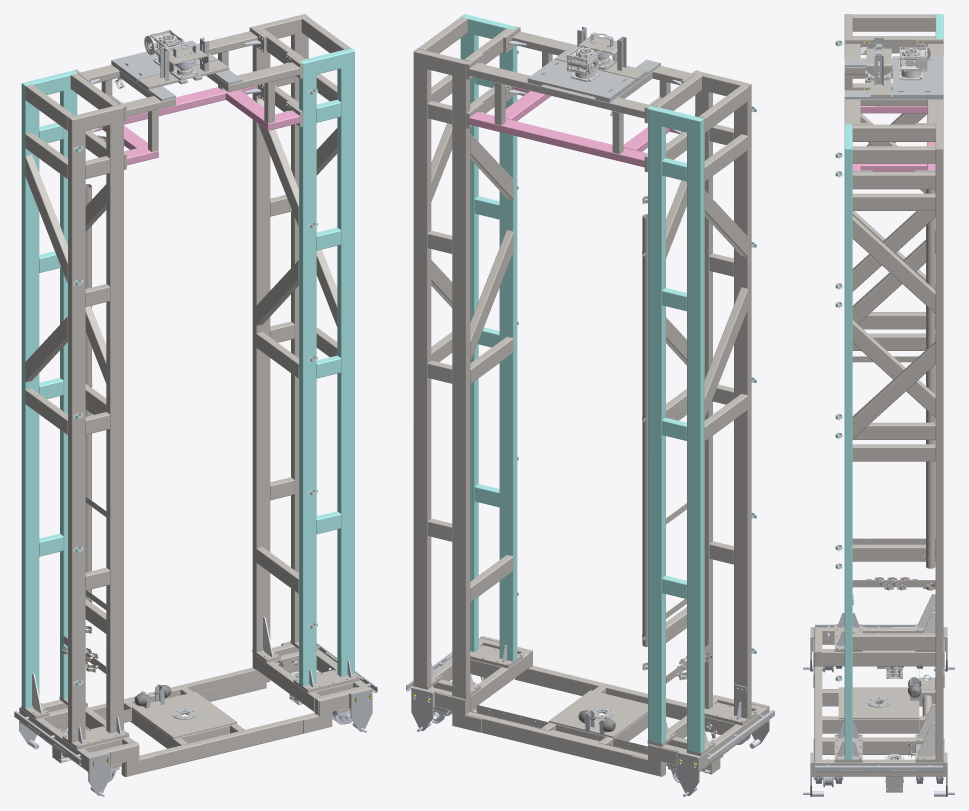
The model's file is GANTRY5EJES_02.glb.
The picture shows the model from 3 angles, left to right: view 1: azimuth 30°, elevation 25°; view 2: azimuth 150°, elevation 25°; view 3: azimuth 270°, elevation 25°; orthographic projection. The views are drawn at different scales.
Visible parts, largest first — view 1: Rectangular ST_R_100X50X4(3)[3], Rectangular ST_R_100X50X4(1)[1]003, Rectangular ST_R_100X50X4(3)[1] (1), Rectangular ST_R_100X50X4(1)[3]003, Rectangular ST_R_100X50X4(1)[3]002, Rectangular ST_R_100X50X4(3)[1] (2), Rectangular ST_R_100X50X4(1)[1]002, Rectangular ST_R_100X50X4(3)[3] (1), Rectangular ST_R_100X50X4(1)[5]001, Taladro roscado M007, Saliente-Extruir281, Recortar/Extender7[1]001 (+32 smaller); view 2: Rectangular ST_R_100X50X4(3)[1] (2), Rectangular ST_R_100X50X4(3)[3] (1), Rectangular ST_R_100X50X4(1)[3]002, Rectangular ST_R_100X50X4(1)[1]002, Rectangular ST_R_100X50X4(3)[3], Rectangular ST_R_100X50X4(1)[1]003, Rectangular ST_R_100X50X4(3)[1] (1), Rectangular ST_R_100X50X4(1)[3]003, Rectangular ST_R_100X50X4(1)[11]001, Rectangular ST_R_100X50X4(4), Saliente-Extruir281, Taladro roscado M007 (+30 smaller); view 3: Rectangular ST_R_100X50X4(1)[3]003, Rectangular ST_R_100X50X4(3)[3] (1), Saliente-Extruir281, Taladro roscado M007, Recortar/Extender7[1]002, Recortar/Extender7[2]002, Recortar/Extender3[1]001, Recortar/Extender6[2] (1), Recortar/Extender6[1] (1), Cortar-Extruir085, Recortar/Extender9[2], Recortar/Extender8[2]002 (+36 smaller).
Part boxes in pixels (box(x1,y1,x2,y2)): Rectangular ST_R_100X50X4(3)[3]: box(68, 117, 85, 742); Rectangular ST_R_100X50X4(1)[1]003: box(299, 64, 316, 686); Rectangular ST_R_100X50X4(3)[1] (1): box(106, 107, 123, 733); Rectangular ST_R_100X50X4(1)[3]003: box(337, 51, 354, 676); Rectangular ST_R_100X50X4(1)[3]002: box(21, 83, 39, 708); Rectangular ST_R_100X50X4(3)[1] (2): box(252, 45, 270, 652); Rectangular ST_R_100X50X4(1)[1]002: box(60, 83, 77, 699); Rectangular ST_R_100X50X4(3)[3] (1): box(291, 26, 308, 642); Rectangular ST_R_100X50X4(1)[5]001: box(126, 713, 318, 776); Taladro roscado M007: box(132, 691, 237, 738); Saliente-Extruir281: box(85, 184, 91, 602); Recortar/Extender7[1]001: box(25, 154, 67, 283); Rectangular ST_R_100X50X4(3)[1] (2): box(452, 64, 470, 695); Rectangular ST_R_100X50X4(3)[3] (1): box(413, 52, 431, 686); Rectangular ST_R_100X50X4(1)[3]002: box(687, 119, 704, 753); Rectangular ST_R_100X50X4(1)[1]002: box(648, 109, 665, 743); Rectangular ST_R_100X50X4(3)[3]: box(734, 84, 751, 718); Rectangular ST_R_100X50X4(1)[1]003: box(499, 45, 517, 661); Rectangular ST_R_100X50X4(3)[1] (1): box(695, 83, 712, 709); Rectangular ST_R_100X50X4(1)[3]003: box(460, 26, 478, 651); Rectangular ST_R_100X50X4(1)[11]001: box(466, 711, 661, 776); Rectangular ST_R_100X50X4(4): box(469, 112, 647, 167); Saliente-Extruir281: box(642, 214, 647, 646); Taladro roscado M007: box(548, 690, 647, 737); Rectangular ST_R_100X50X4(1)[3]003: box(844, 149, 852, 759); Rectangular ST_R_100X50X4(3)[3] (1): box(935, 149, 943, 759); Saliente-Extruir281: box(926, 190, 935, 568); Taladro roscado M007: box(838, 687, 919, 719); Recortar/Extender7[1]002: box(852, 216, 935, 313); Recortar/Extender7[2]002: box(852, 341, 935, 438); Recortar/Extender3[1]001: box(822, 649, 935, 666); Recortar/Extender6[2] (1): box(852, 320, 935, 417); Recortar/Extender6[1] (1): box(852, 211, 935, 291); Cortar-Extruir085: box(892, 56, 943, 96); Recortar/Extender9[2]: box(852, 14, 935, 31); Recortar/Extender8[2]002: box(852, 444, 935, 461).
Size of the model in its own units: 2102 by 4695 by 947.
